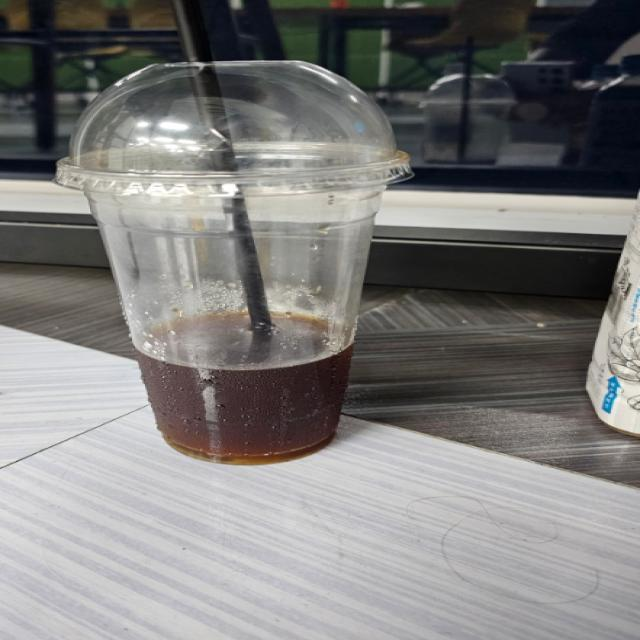cup: (50, 23, 412, 480)
